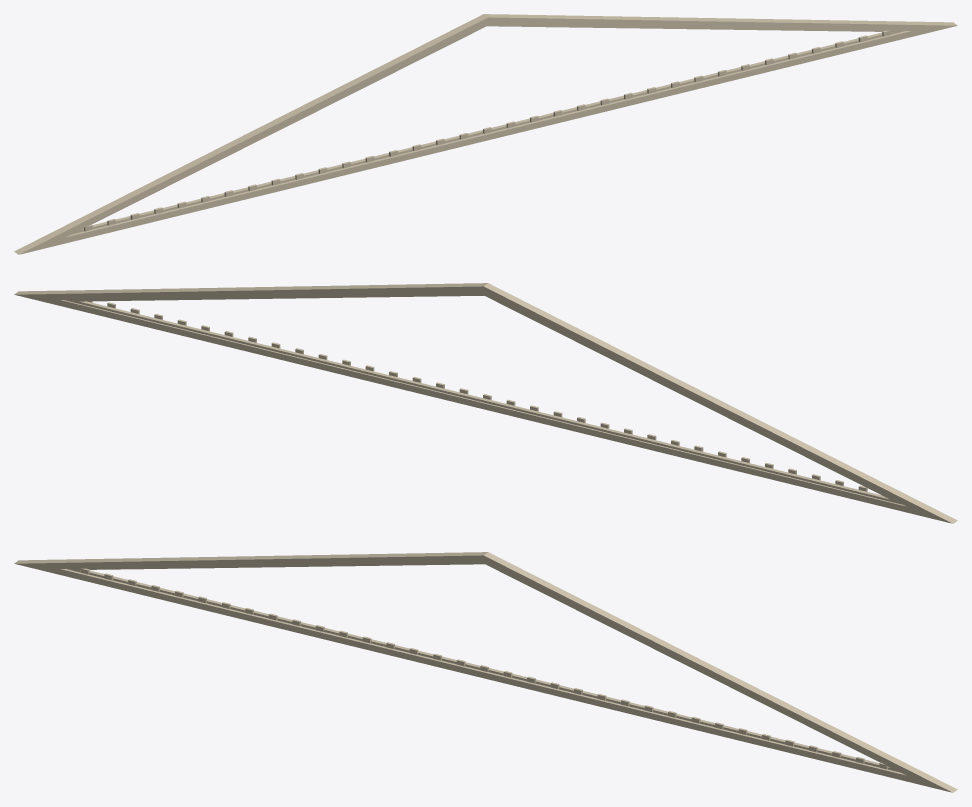
Rendered from waterfront-pediment-moulding.lod0.glb.
3 views of the same model, one above another, from view 1: azimuth 30°, elevation 25°; view 2: azimuth 150°, elevation 25°; view 3: azimuth 330°, elevation 25° (orthographic).
Visible parts, largest first — view 1: waterfront-pediment-moulding; view 2: waterfront-pediment-moulding; view 3: waterfront-pediment-moulding.
Boxes of the visible parts, box(x1,y1,x2,y2) form: waterfront-pediment-moulding: box(14, 14, 957, 254); waterfront-pediment-moulding: box(14, 283, 957, 523); waterfront-pediment-moulding: box(14, 552, 957, 792).
Size of the model in its own units: 28 by 3.5 by 0.24.
